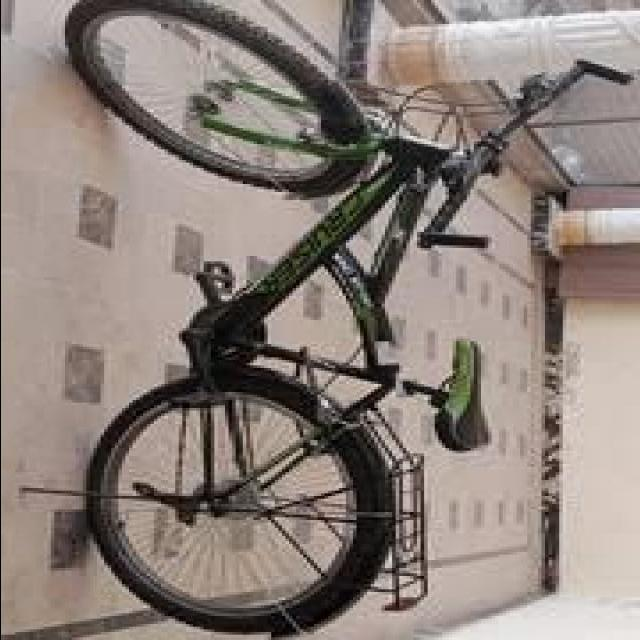bicycle: (37, 1, 581, 622)
